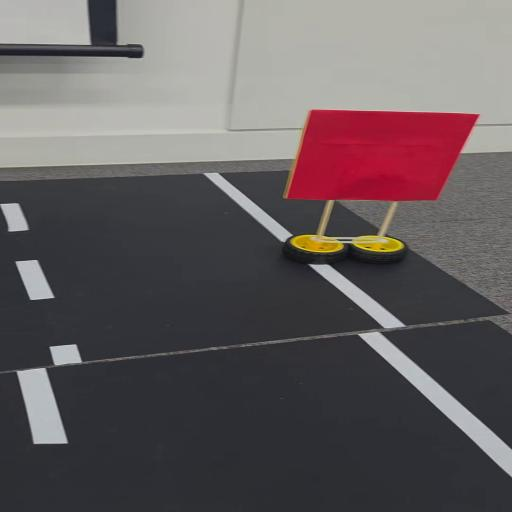Sign_A: (280, 104, 476, 272)
